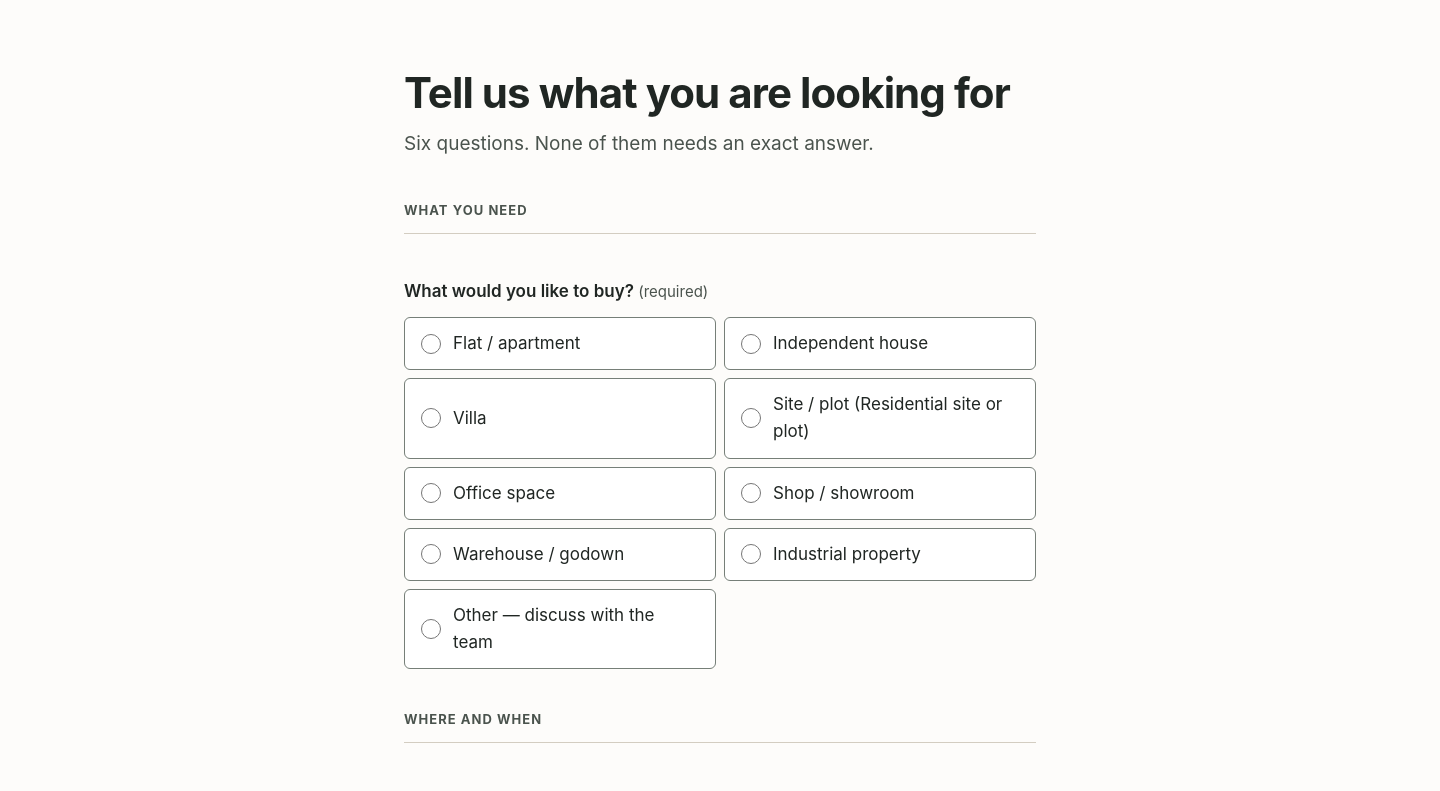
Scenario: client-side validation › requires consent before submitting
The image size is (1440, 791).
Click the radio button labelled "Flat / apartment" at (431, 344), box [421,334,441,354]
(page scrolled)
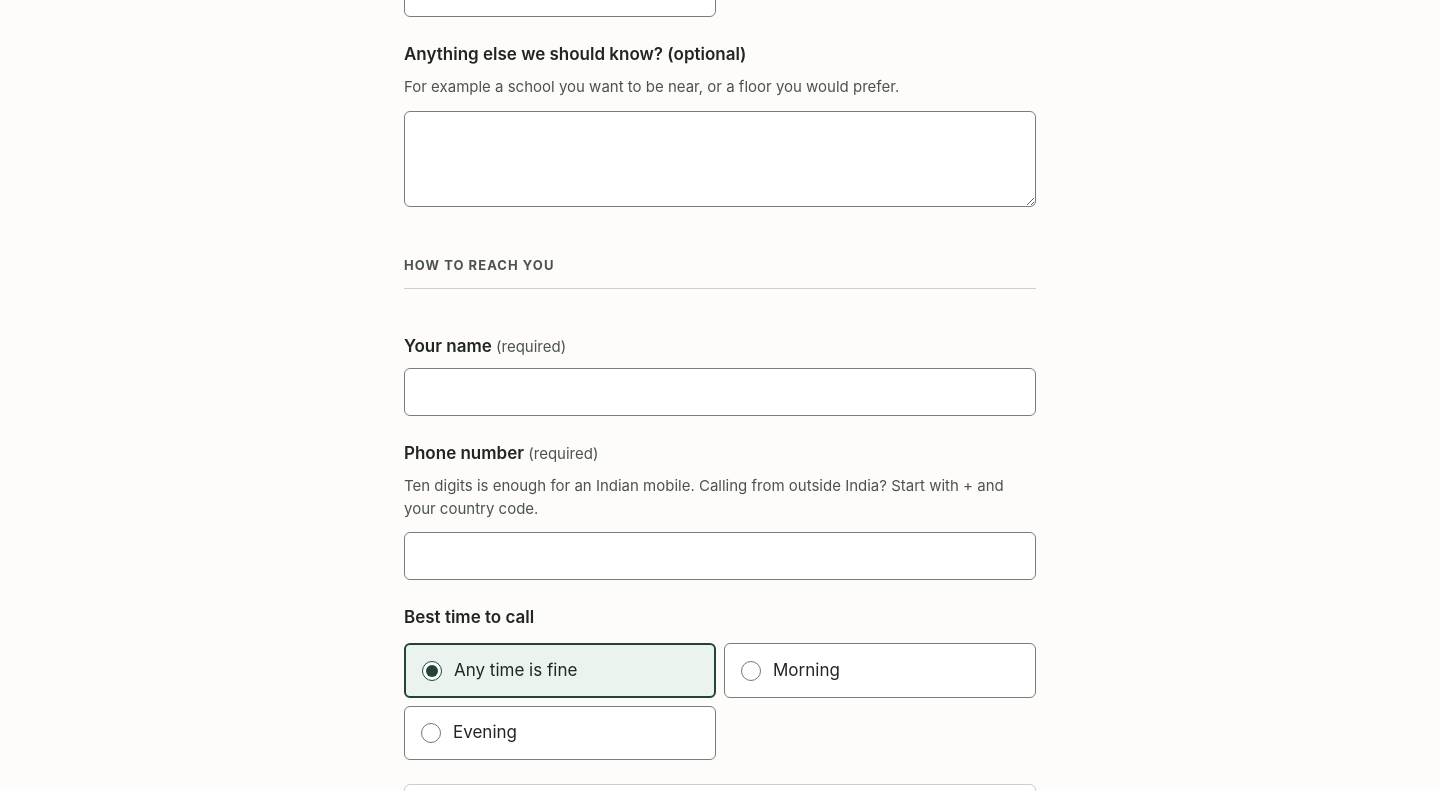
Type "Synthetic Test Person" into the field labelled "Your name (required)" at (720, 392), box [404,368,1036,416]
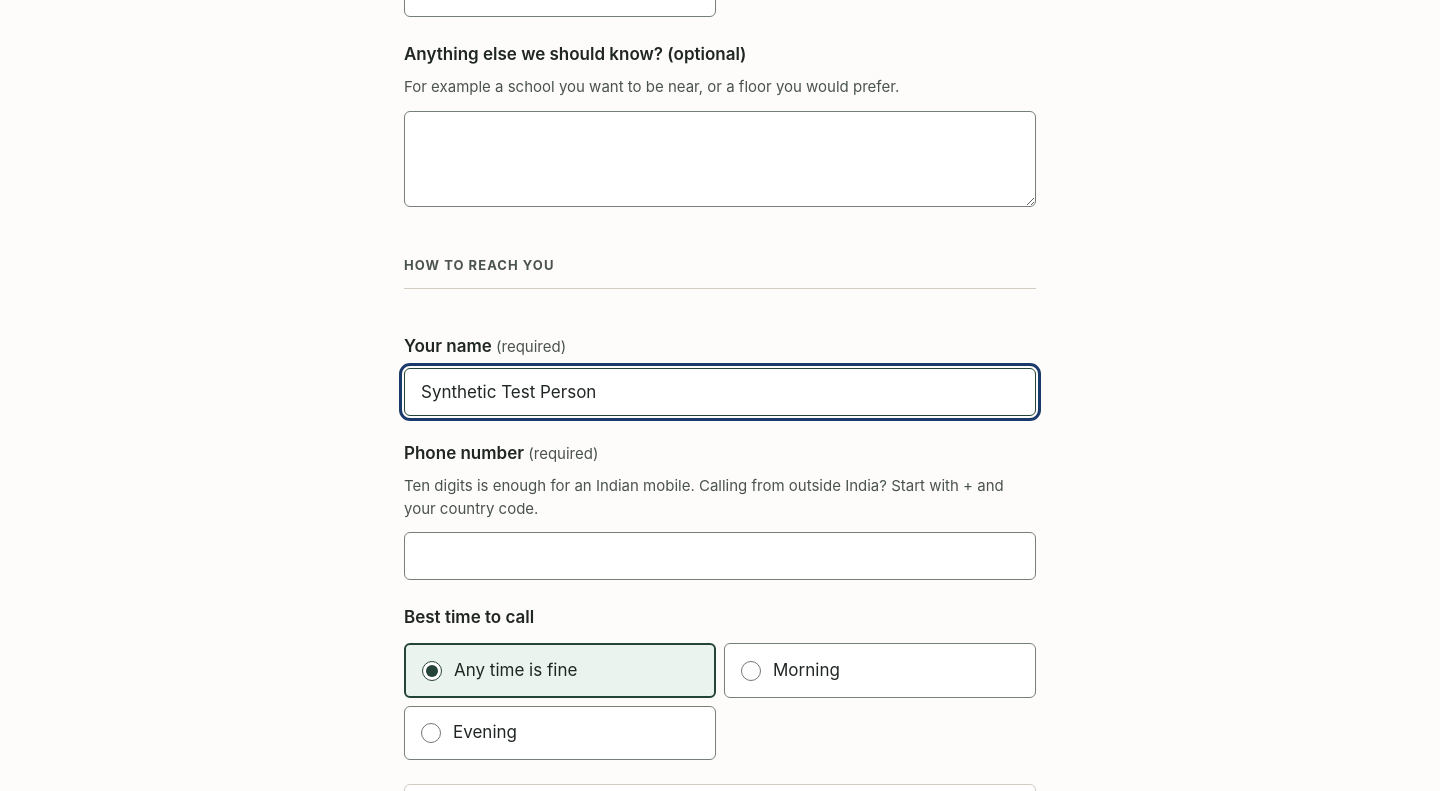
Type "9845012345" into the field labelled "Phone number (required)" at (720, 556), box [404,532,1036,580]
(page scrolled)
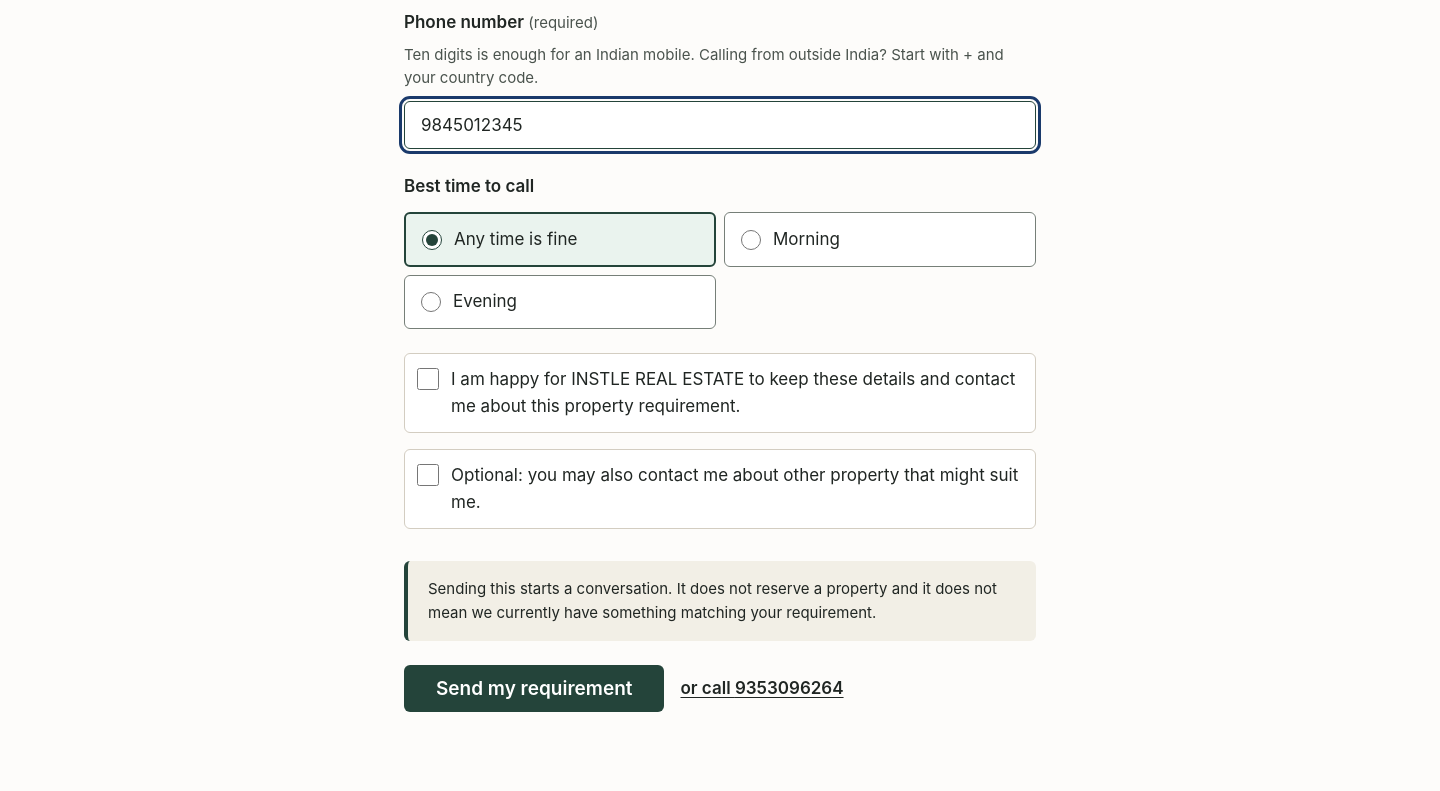
Click the button "Send my requirement" at (534, 689), box [404,665,664,712]
(page scrolled)
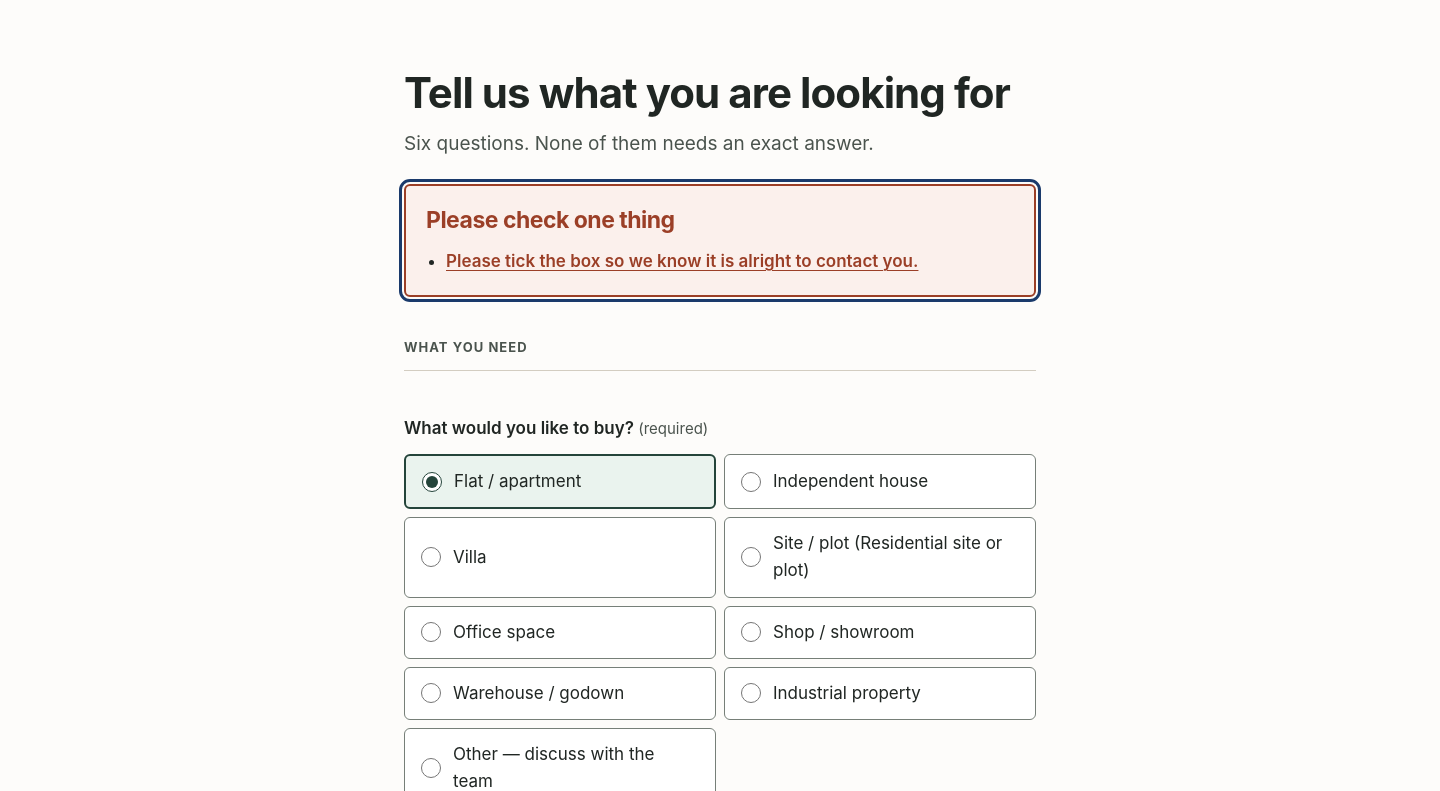
Expected: the message shows "tick the box", [446,251,918,271]
